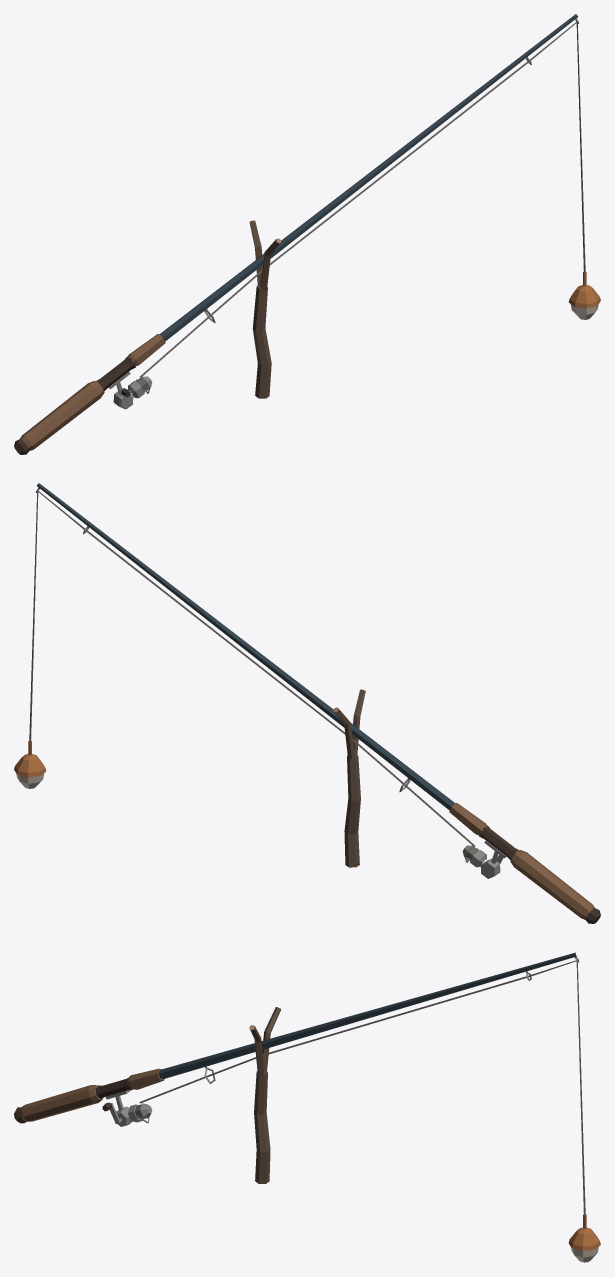
Rendered from fishing-rod.glb.
3 renders of one model, top to bottom at view 1: azimuth 30°, elevation 25°; view 2: azimuth 150°, elevation 25°; view 3: azimuth 330°, elevation 25°, orthographic.
Visible parts, largest first — view 1: rod-mesh, stick; view 2: rod-mesh, stick; view 3: rod-mesh, stick.
Part boxes in pixels (bbox=[...]): rod-mesh: bbox=[14, 14, 600, 454]; stick: bbox=[249, 220, 281, 398]; rod-mesh: bbox=[14, 483, 600, 923]; stick: bbox=[333, 689, 365, 867]; rod-mesh: bbox=[14, 952, 600, 1262]; stick: bbox=[249, 1007, 280, 1183].
Size of the model in its own units: 2.23 by 1.12 by 0.1911.
